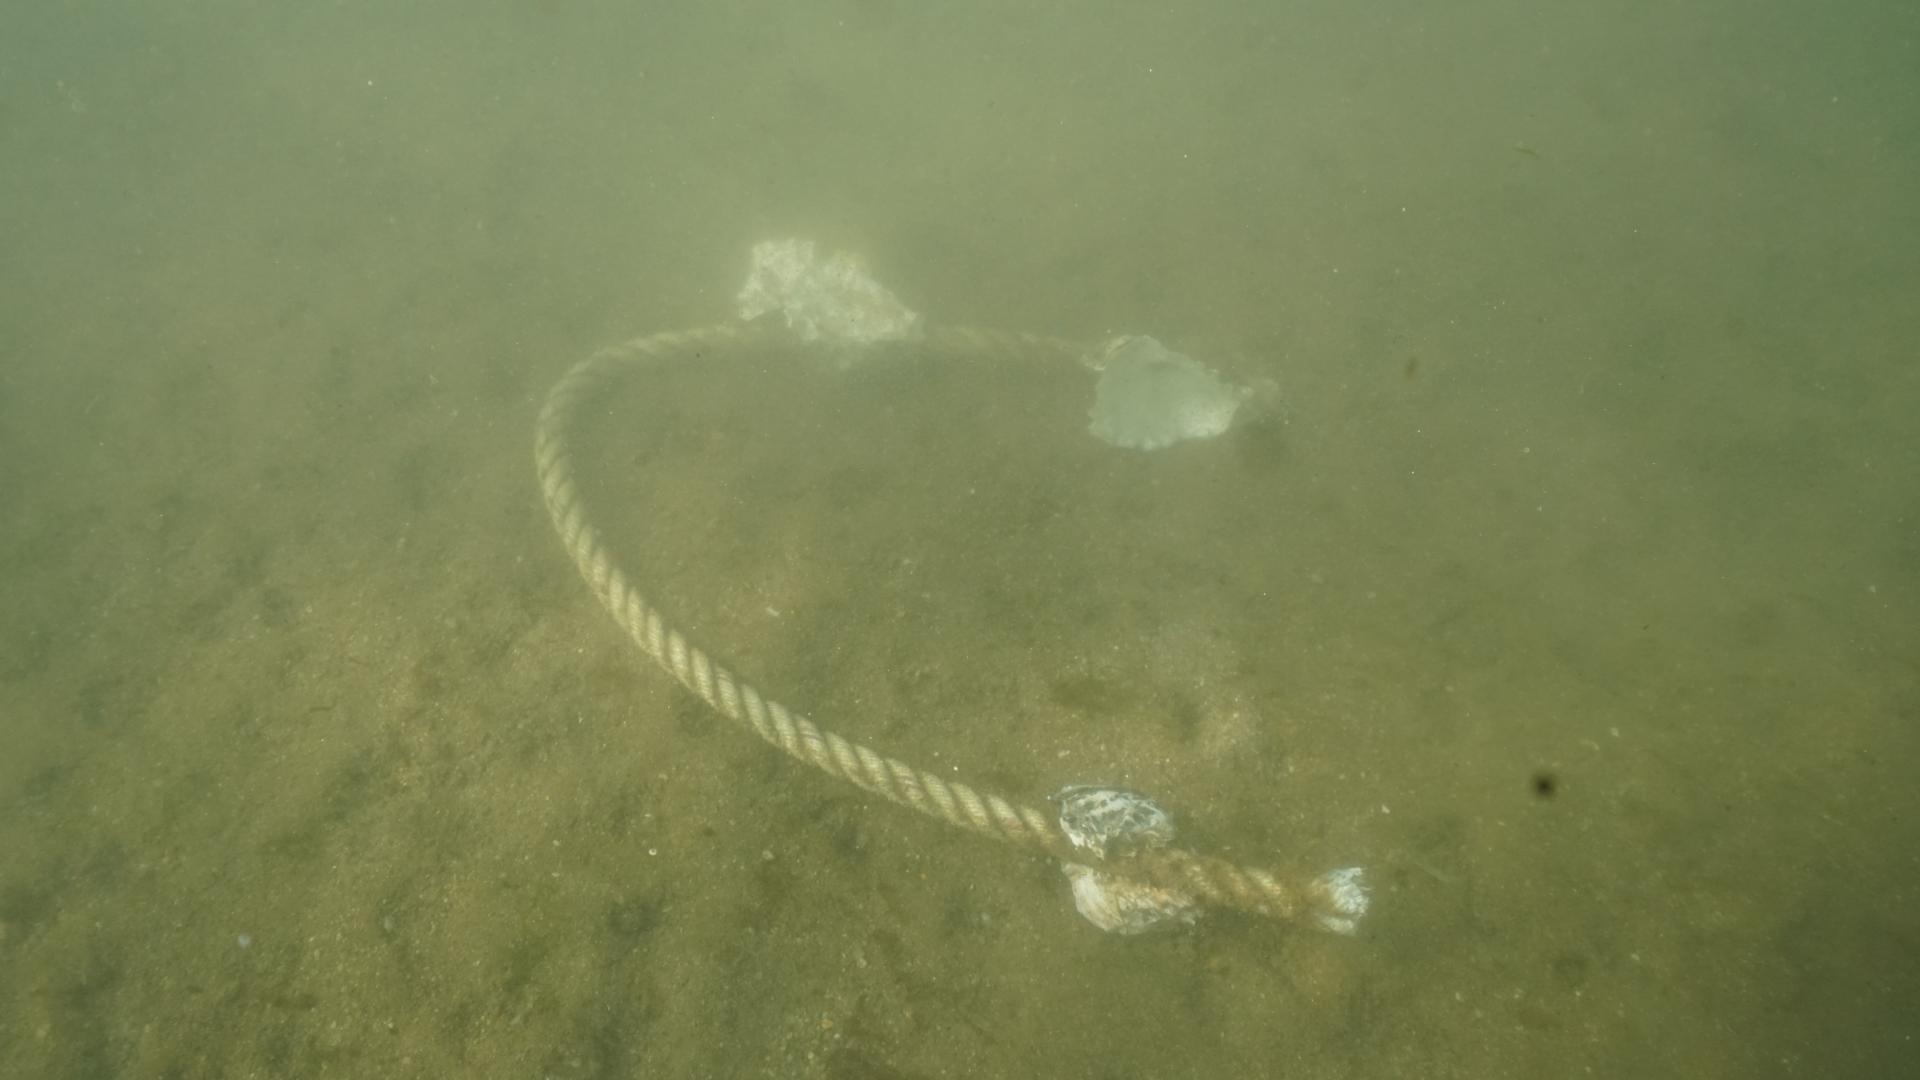rope: (522, 301, 1354, 935)
